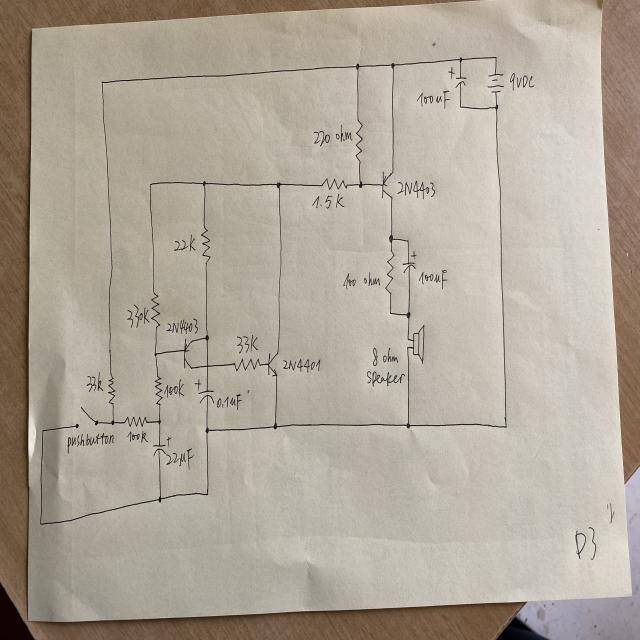capacitor: (194, 378, 215, 405), (401, 248, 419, 276), (152, 434, 172, 458), (447, 66, 467, 88)
crossover: (204, 362, 210, 370)
junction: (357, 180, 365, 190), (275, 180, 282, 190), (405, 420, 412, 430), (405, 310, 412, 320), (354, 61, 361, 70), (201, 179, 208, 188), (98, 78, 105, 87), (109, 418, 116, 427), (388, 233, 394, 243), (493, 103, 500, 111), (147, 180, 154, 188), (204, 426, 210, 435), (272, 422, 278, 431), (157, 495, 163, 504), (204, 333, 210, 341), (390, 61, 396, 69), (152, 350, 158, 358), (40, 426, 46, 434), (156, 418, 162, 426), (503, 423, 509, 431), (38, 520, 44, 527), (458, 55, 463, 63), (205, 490, 210, 498), (458, 103, 463, 110), (388, 309, 393, 316), (405, 237, 410, 244), (493, 54, 498, 60), (406, 345, 410, 350), (407, 336, 409, 342)
resistor: (231, 356, 262, 373), (354, 118, 365, 165), (385, 251, 396, 295), (200, 226, 212, 266), (150, 290, 161, 330), (320, 176, 349, 190), (106, 373, 116, 406), (124, 415, 148, 428), (154, 373, 163, 406)
source: (486, 72, 506, 94)
switch: (74, 405, 100, 431)
text: (66, 432, 114, 454), (312, 124, 353, 147), (396, 178, 437, 200), (415, 88, 453, 109), (366, 369, 406, 387), (281, 358, 323, 374), (310, 193, 346, 211), (343, 273, 381, 290), (166, 447, 194, 470), (126, 303, 150, 329), (418, 268, 448, 288), (372, 346, 400, 366), (165, 318, 199, 334), (508, 72, 536, 91), (214, 393, 244, 410), (236, 334, 259, 355), (172, 234, 196, 252), (85, 372, 103, 394), (127, 430, 148, 443), (166, 382, 184, 396)
transistor: (375, 167, 396, 201), (266, 349, 281, 376), (183, 338, 194, 370)
